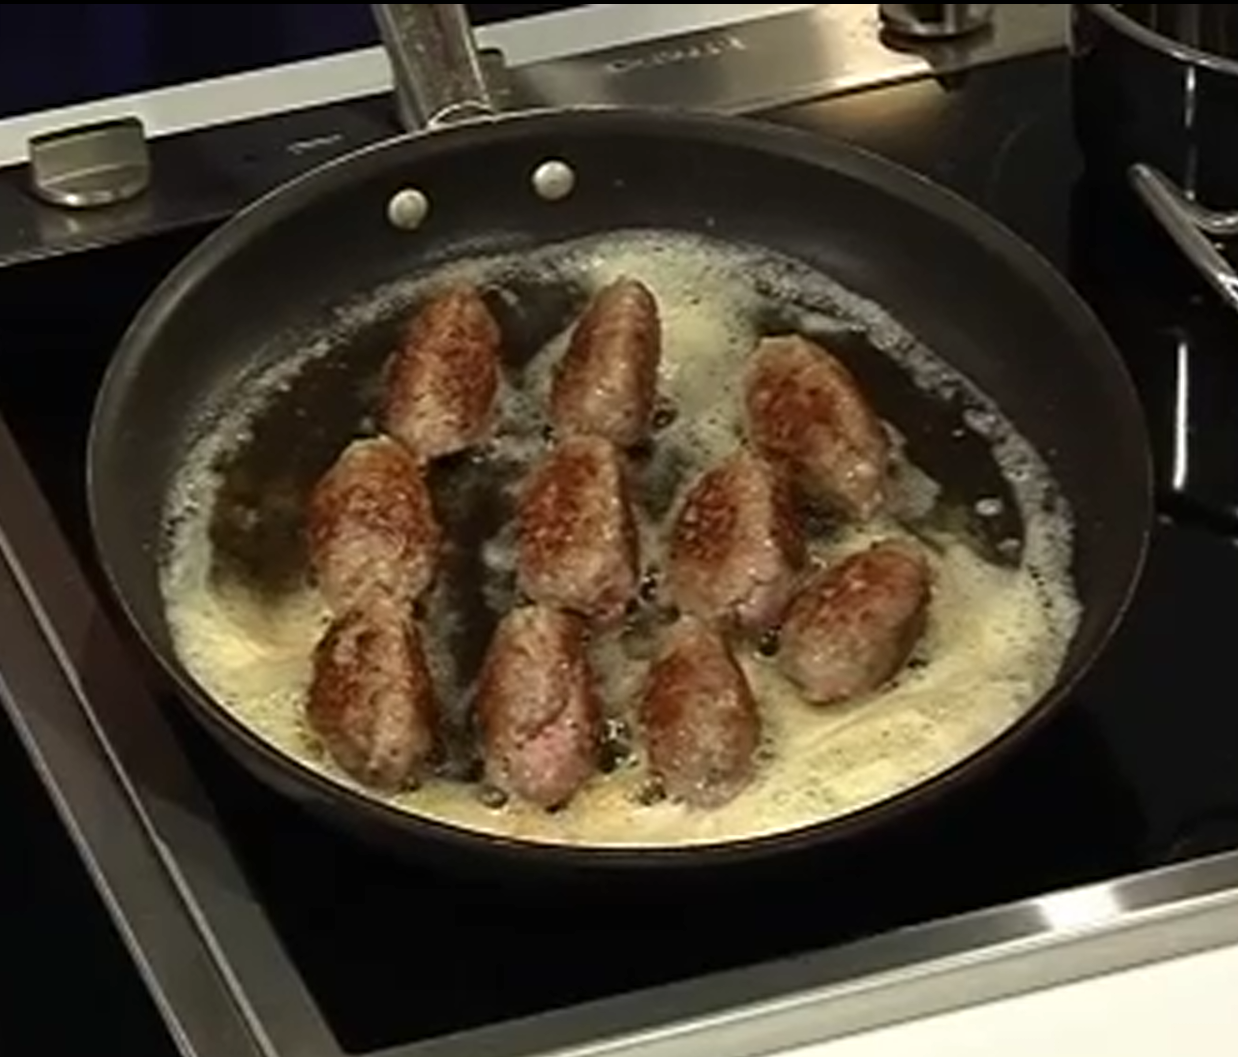meatballs: (319, 292, 924, 823)
